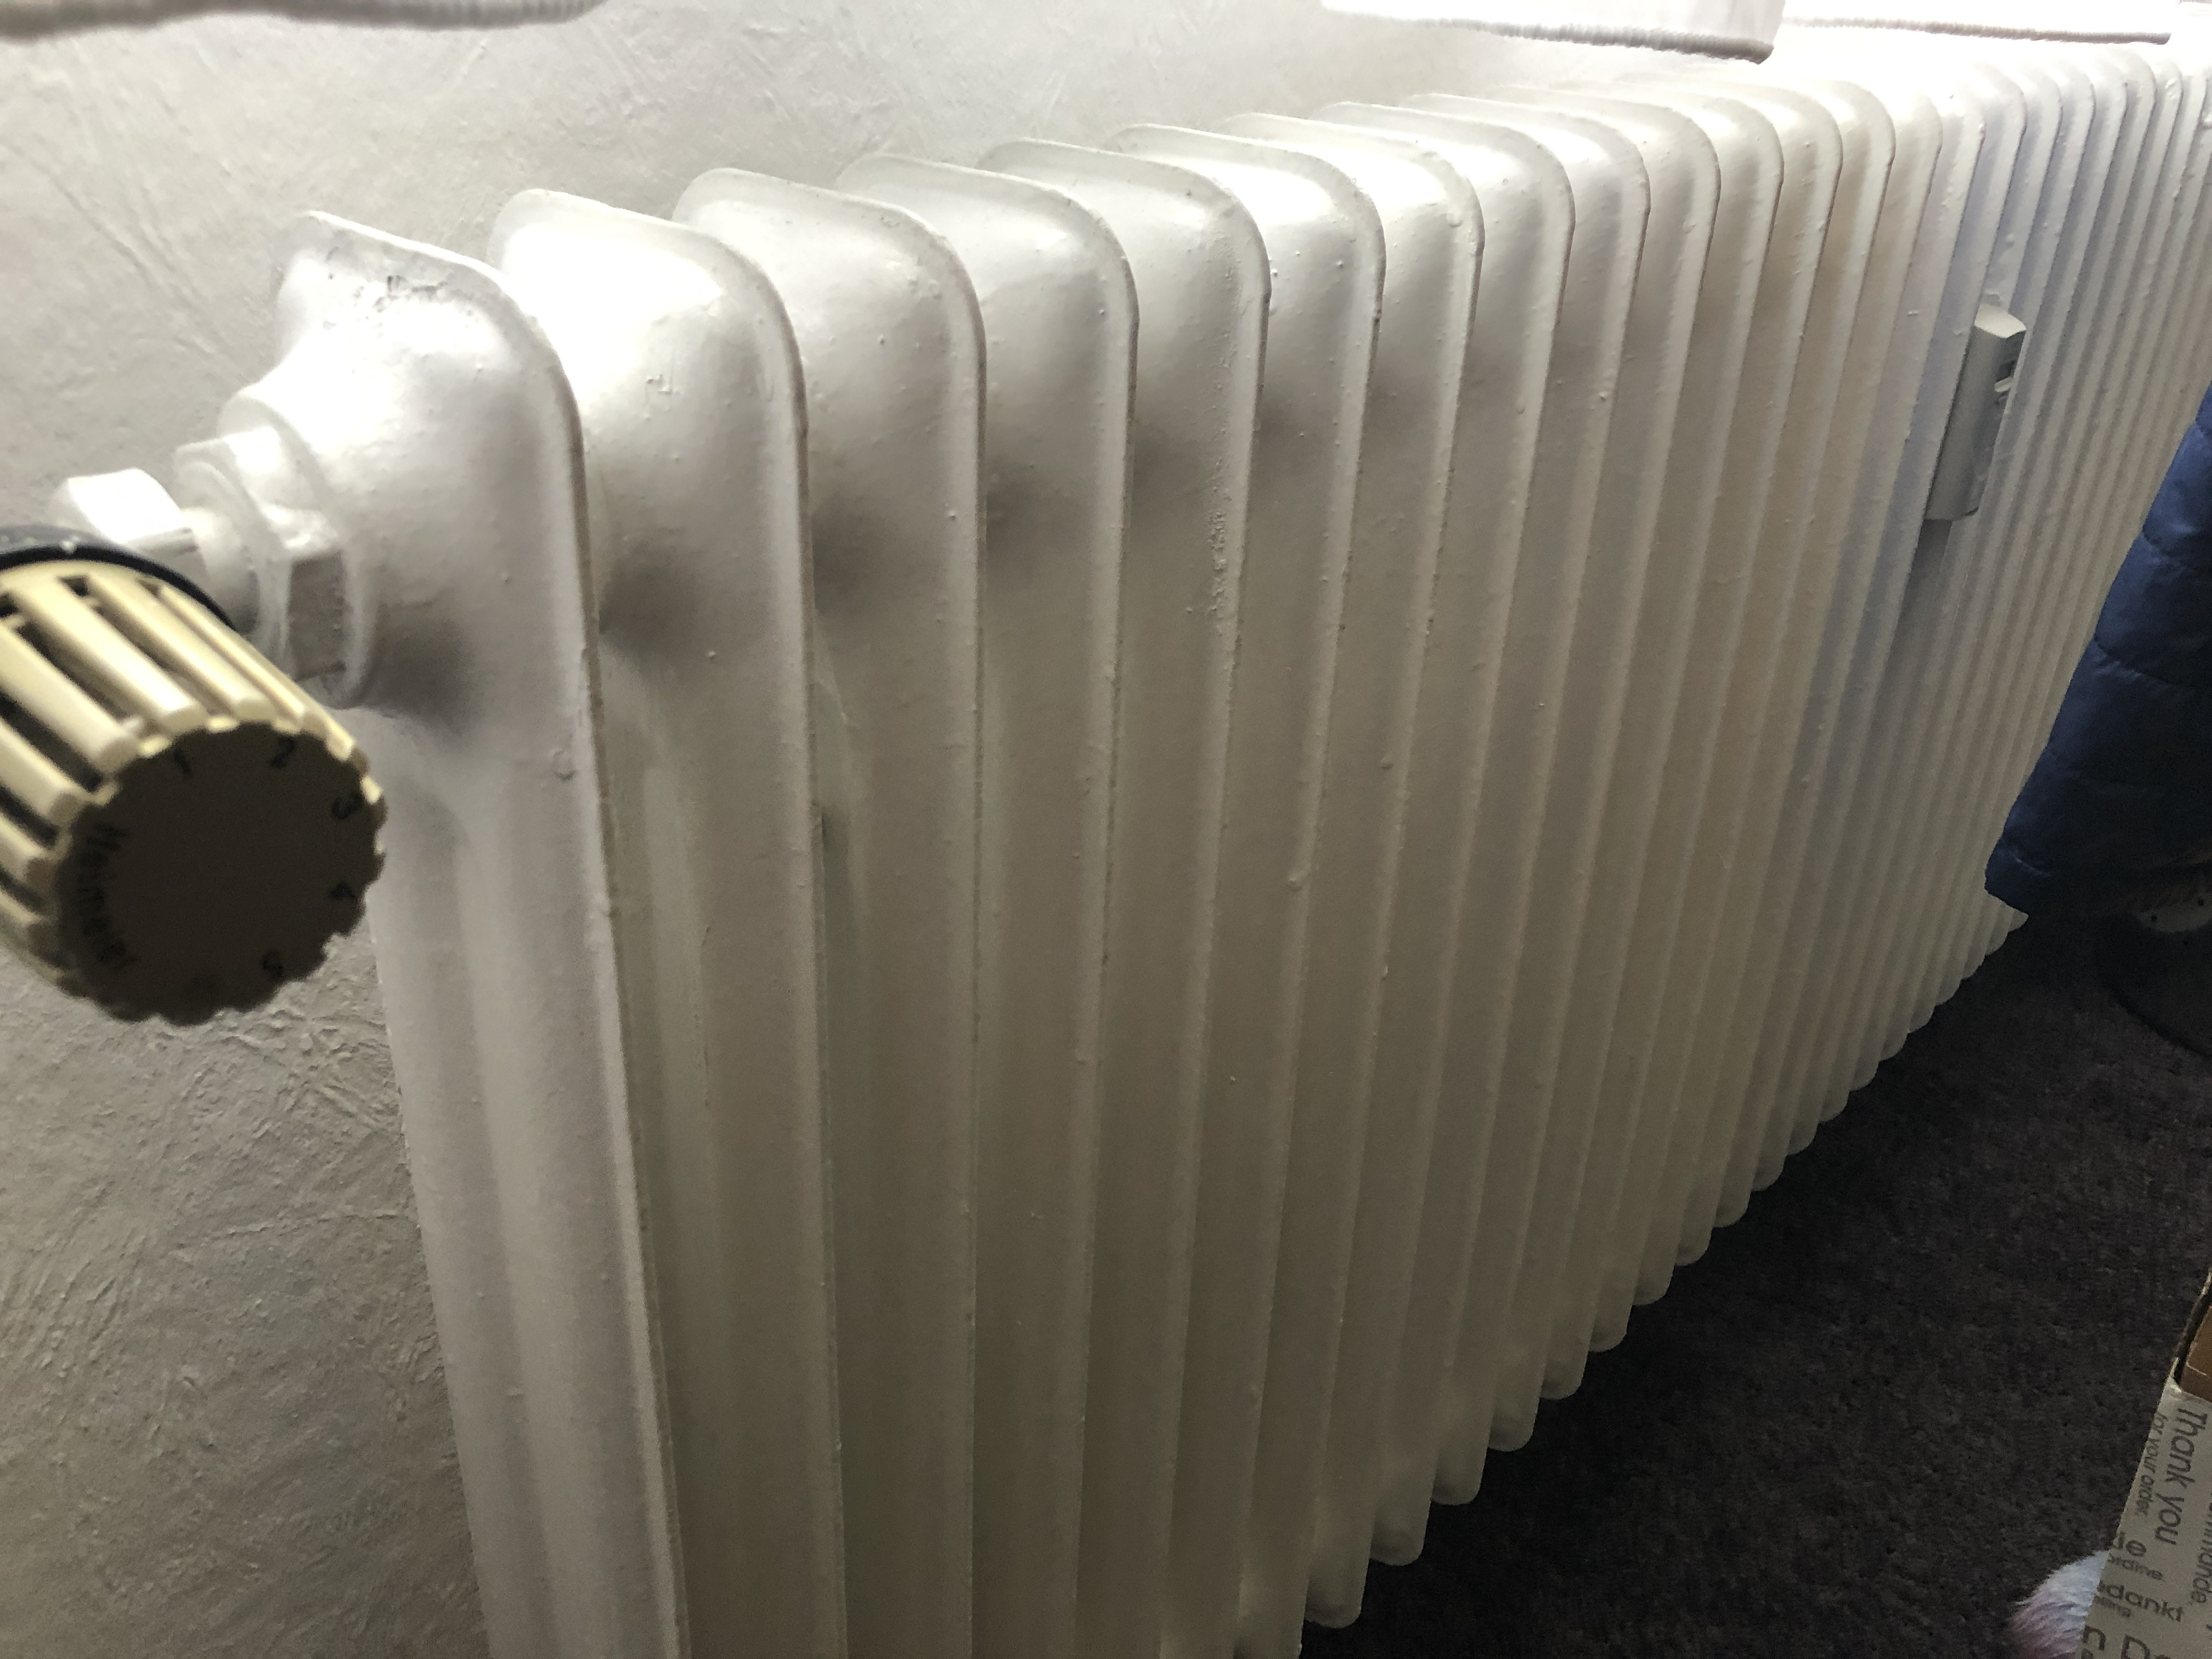Radiator: (0, 35, 2209, 1636)
